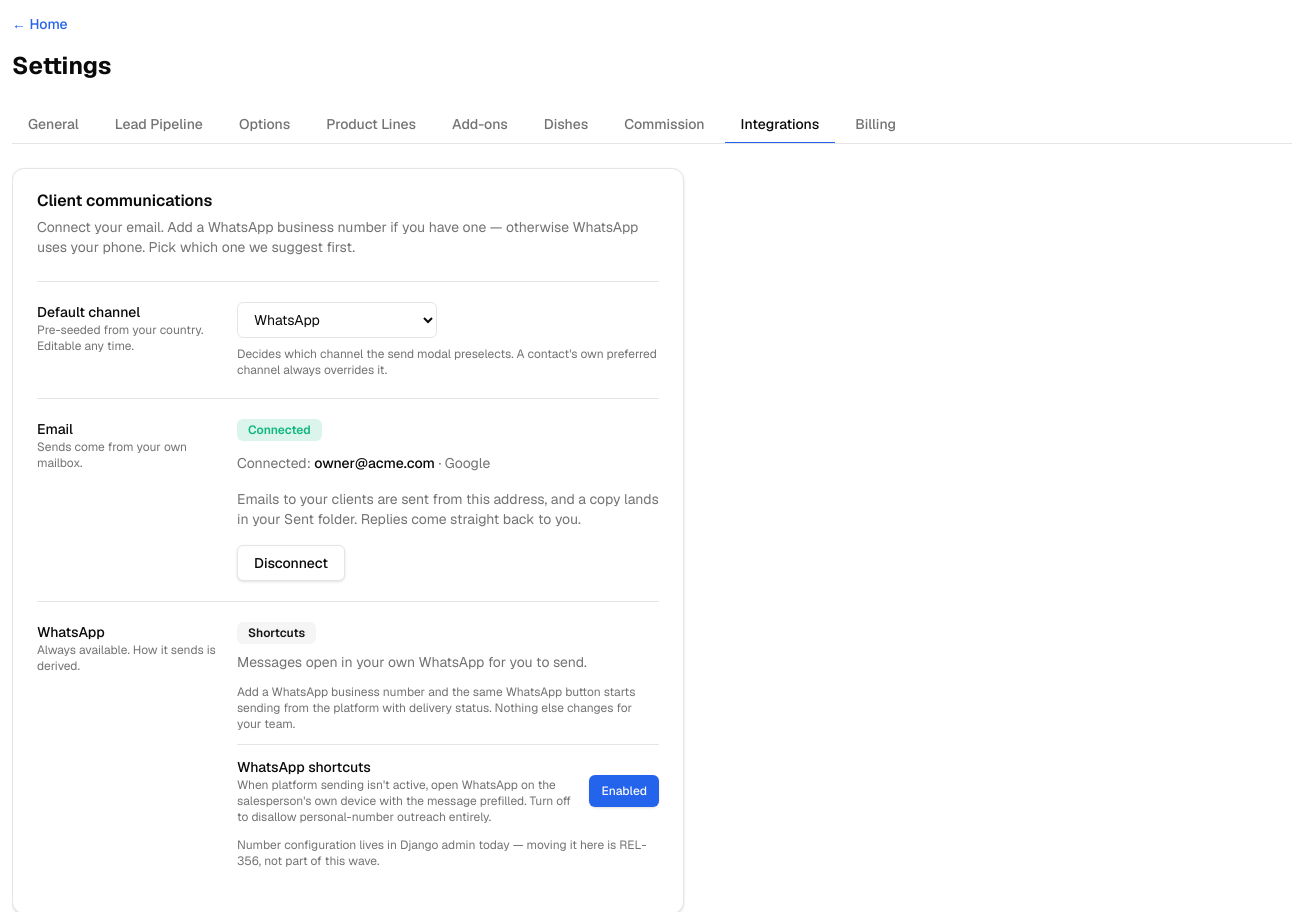
Test: Settings → Integrations → Client email › disconnects and revalidates the card (AC6)
The image size is (1292, 912).
Click the button "Disconnect": (291,563) [237, 545, 345, 581]
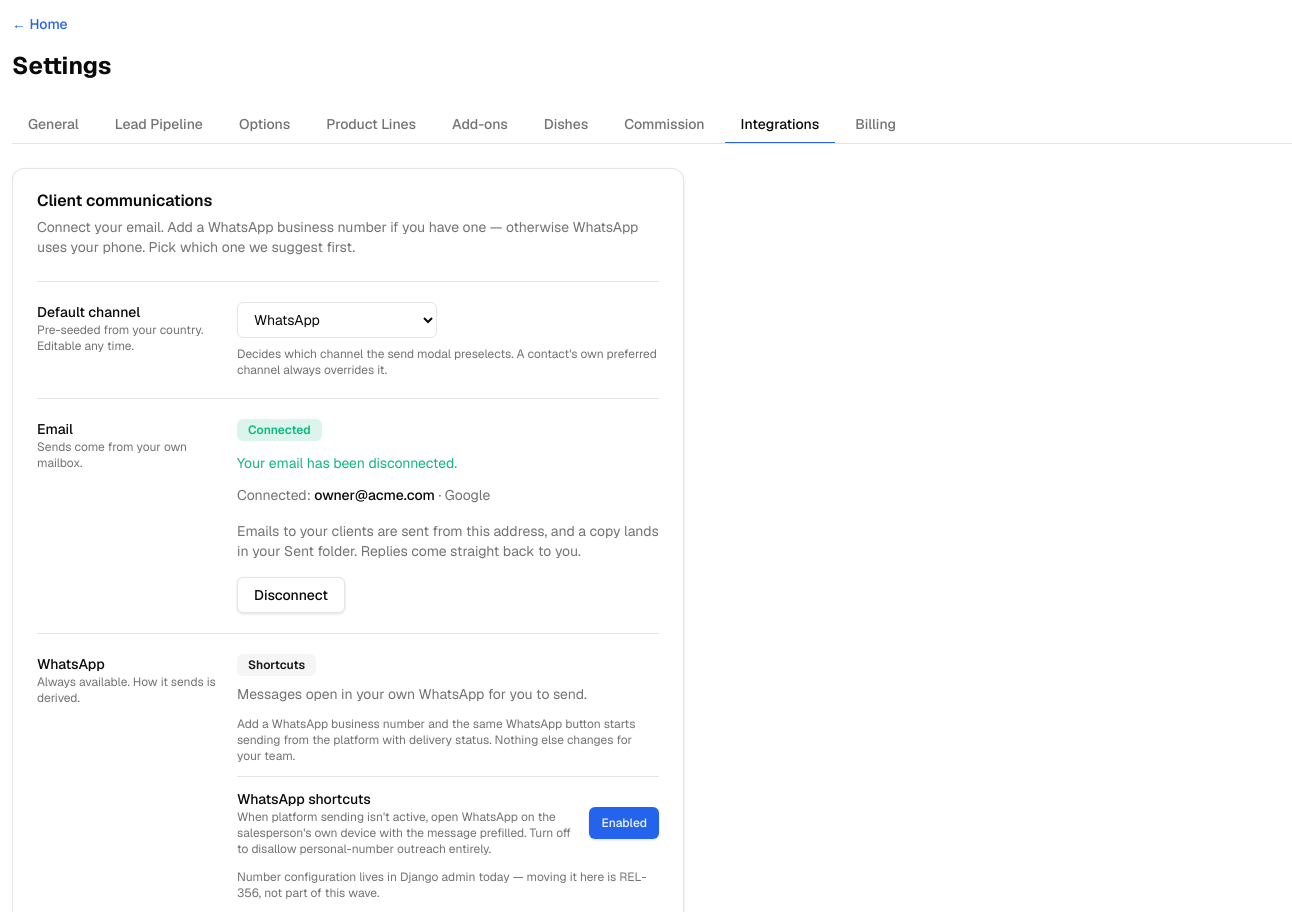
Now the text "Your email has been disconnected." is shown, box [237, 454, 457, 472]
